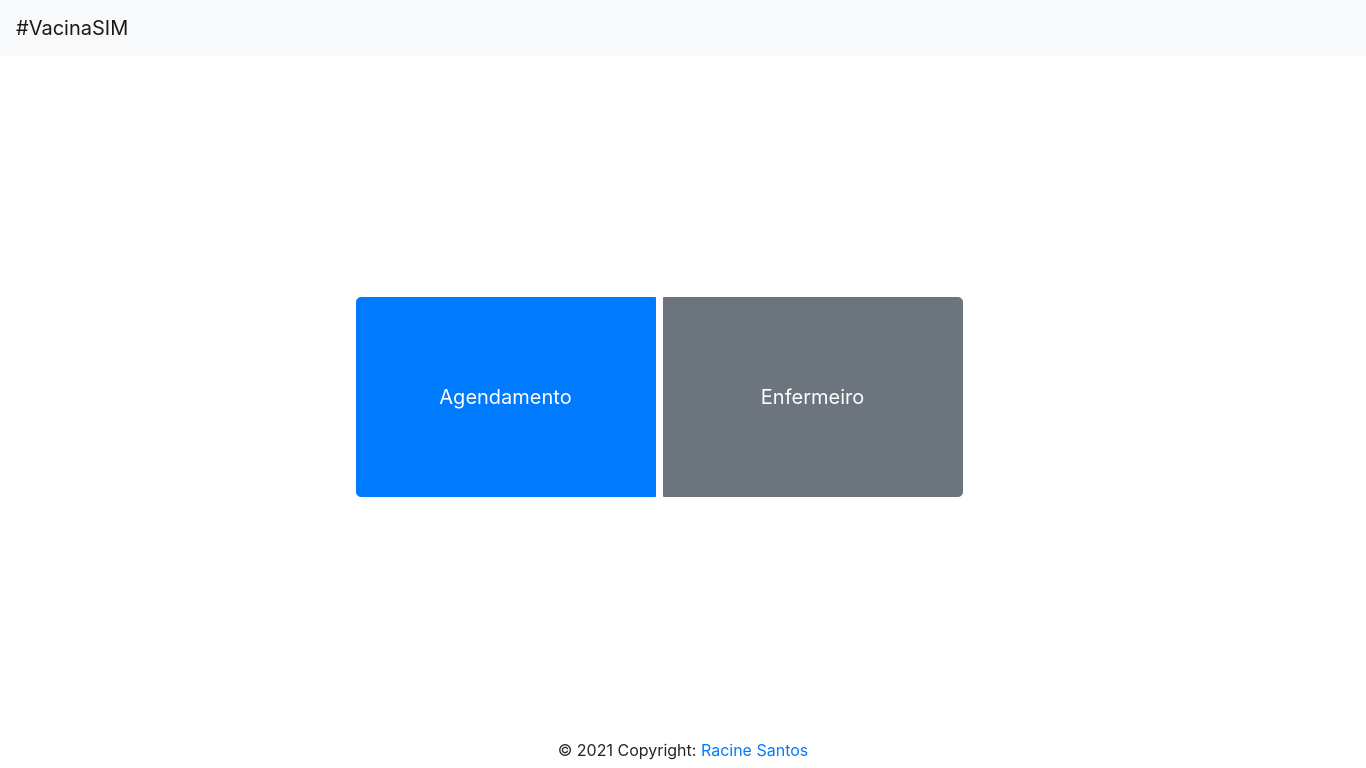
Scenario: Agendar button navigation
Click the button titled "agendar-btn".
click(506, 397)  # box [356,297,656,497]
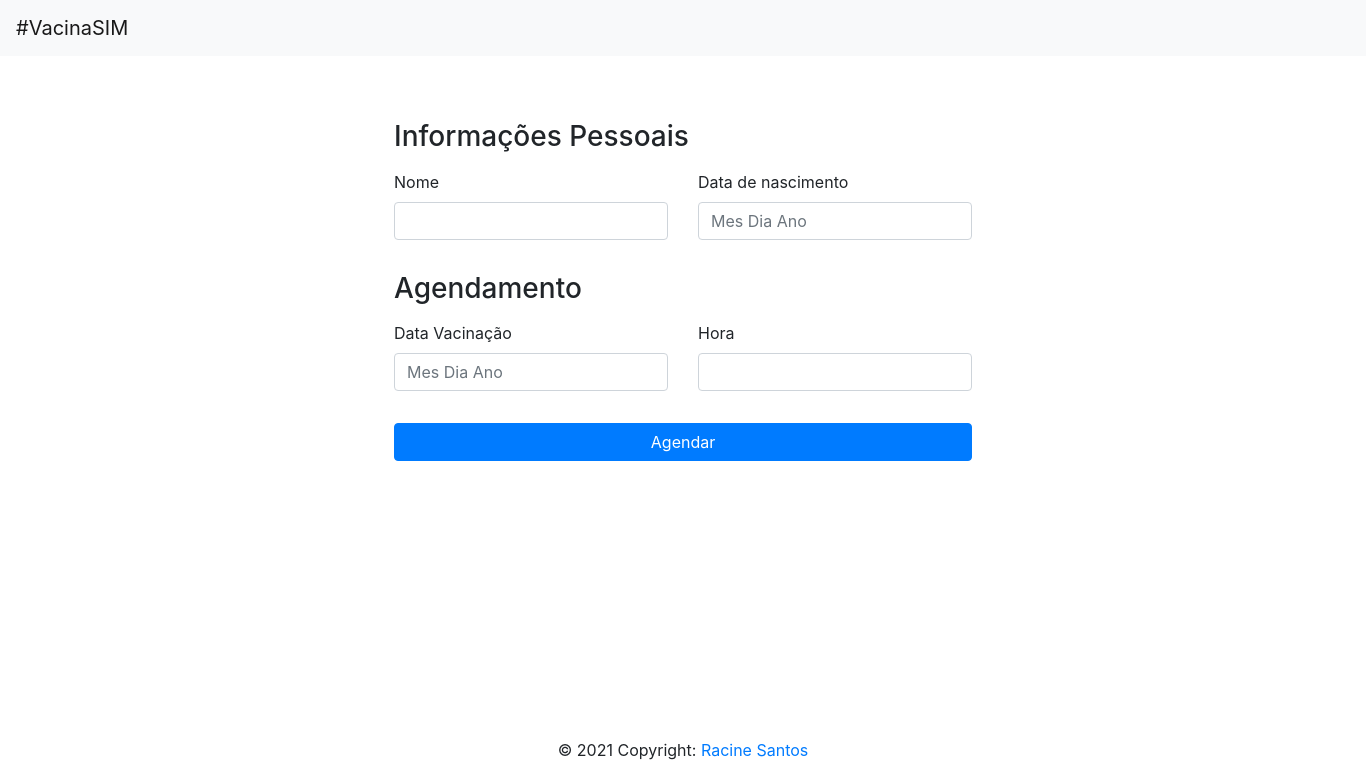
Expected: the text "Nome" is shown, [394,170,439,194]
